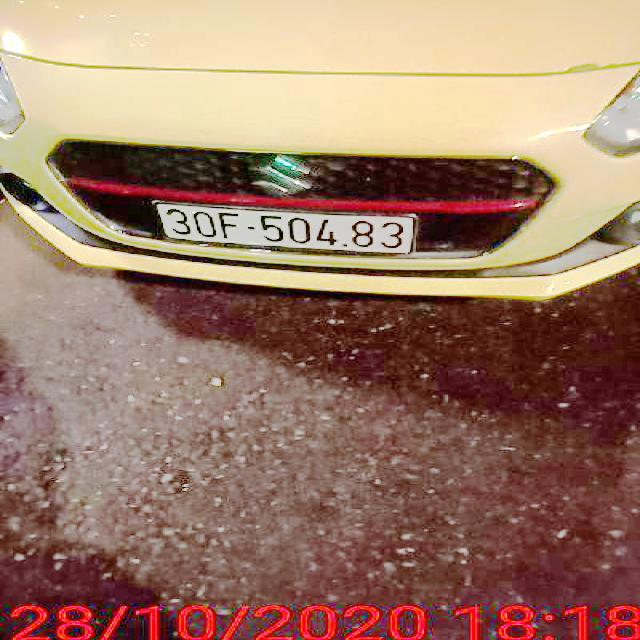license_plate: (159, 204, 414, 252)
